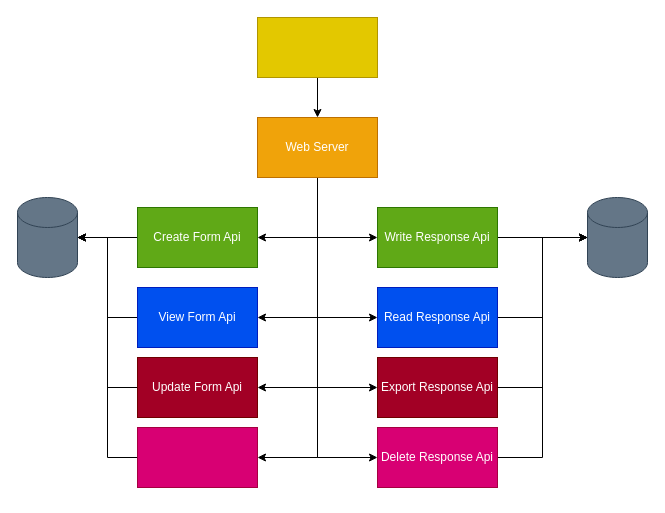
This 665x513 diagram has some shape labels left out. Here are the shapes that lost their labels. From the top down, the centre of each, then its label:
At (x=317, y=47): "Client".
At (x=47, y=237): "Layouts".
At (x=617, y=237): "Responses".
At (x=197, y=457): "Delete Form Api".
